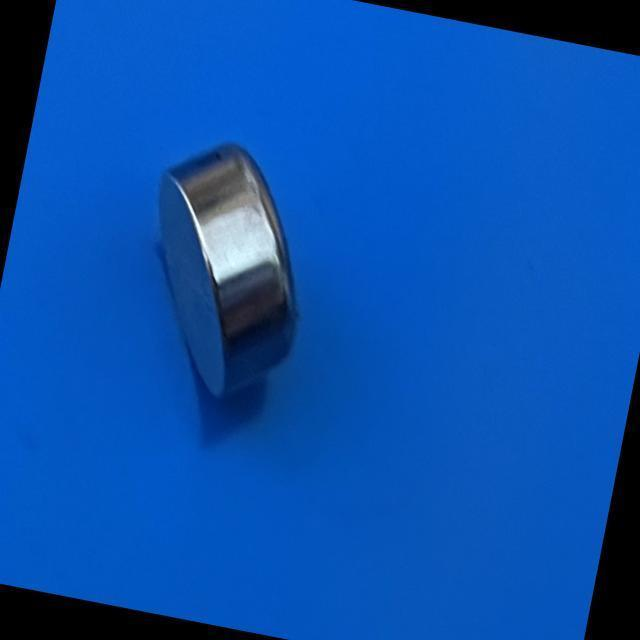COIN: (121, 127, 328, 416)
